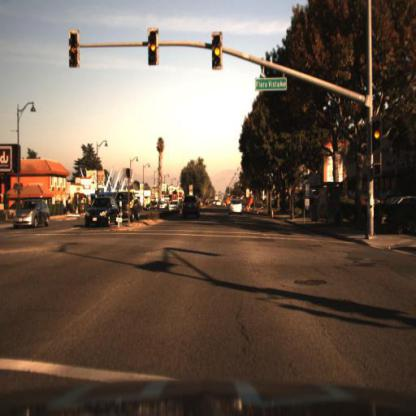car: (83, 192, 123, 229), (14, 198, 51, 231), (116, 190, 143, 223), (123, 185, 144, 225), (181, 192, 204, 219), (356, 189, 382, 209), (228, 198, 244, 218), (167, 200, 183, 219), (158, 195, 169, 216)
trafficLight-Yellow: (213, 32, 223, 70), (149, 29, 159, 66), (373, 117, 382, 151)
trafficLight-YellowLeft: (69, 31, 81, 69)
